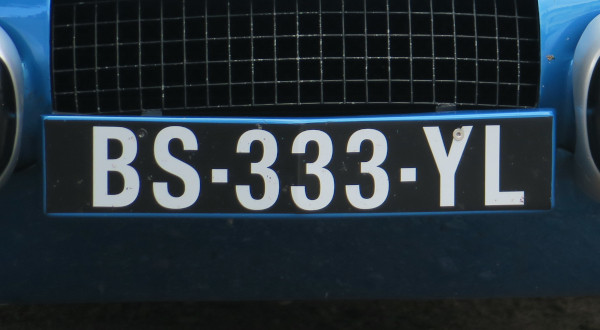license_plate: (42, 114, 555, 212)
